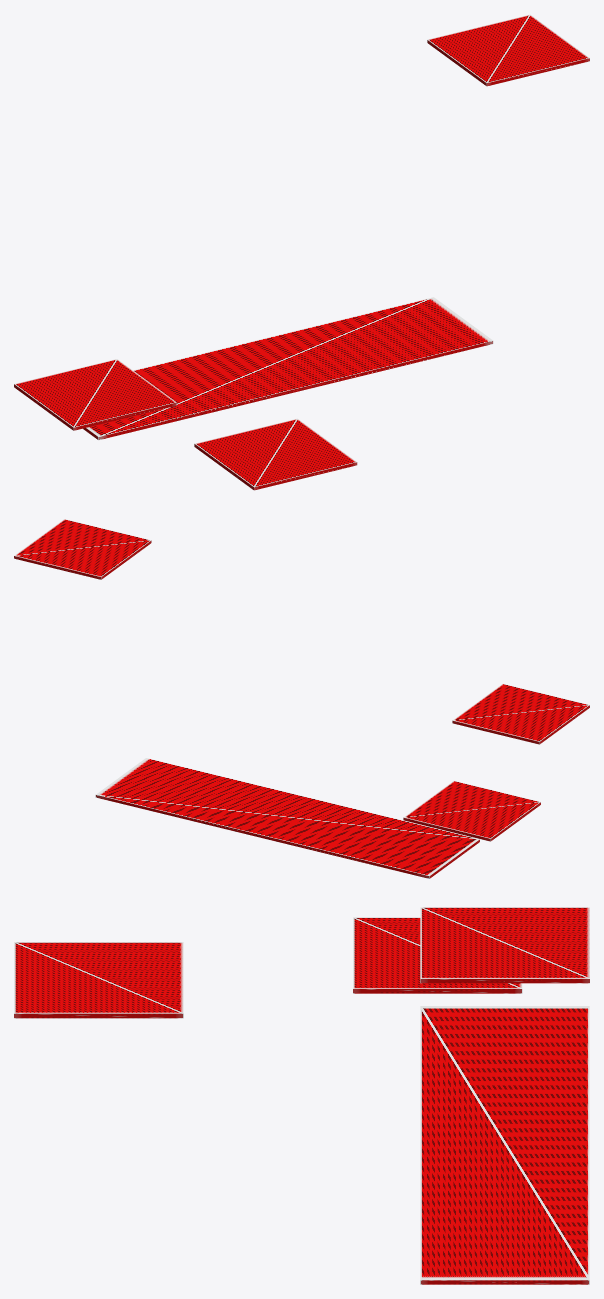
The model's file is Killplanes.obj.
3 views of the same model, one above another, from view 1: azimuth 30°, elevation 25°; view 2: azimuth 150°, elevation 25°; view 3: azimuth 270°, elevation 25° (orthographic). The views are drawn at different scales.
Size of the model in its own units: 5233 by 2428 by 3398.
1 material, 1 textured.
